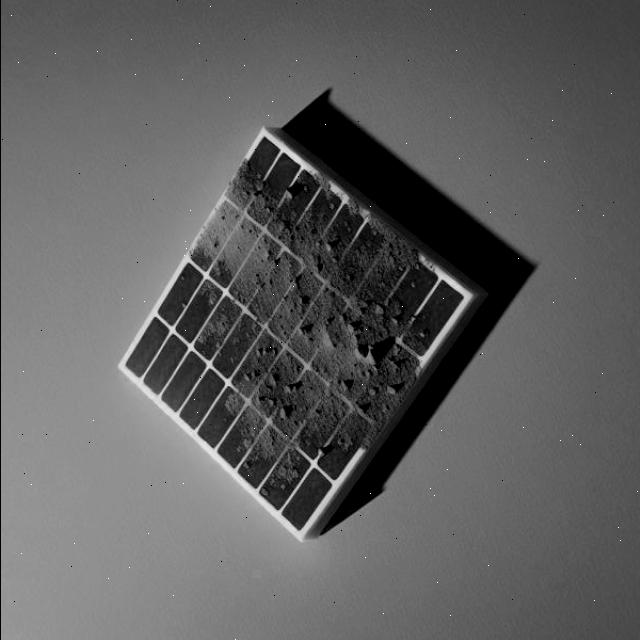Anomaly Solar Panel: (76, 133, 483, 541)
Surface Contaminant: (97, 136, 478, 536)
